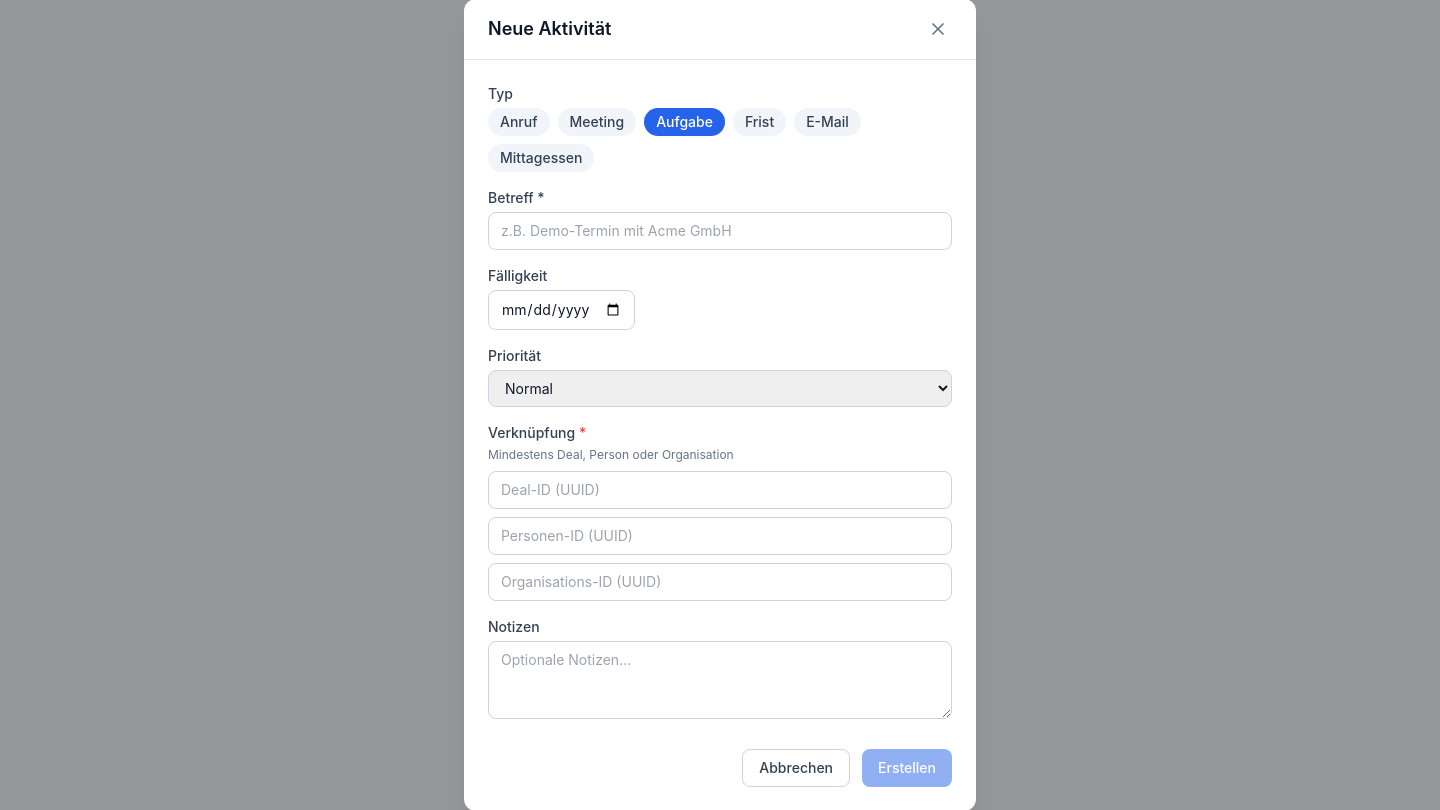
Scenario: CreateActivityModal › shows MEETING time fields (Von/Bis labels)
What coordinates should you click on to do the following:
click the button "Meeting"
I would click on:
 (597, 122)
Its box is x1=558 y1=108 x2=636 y2=136.
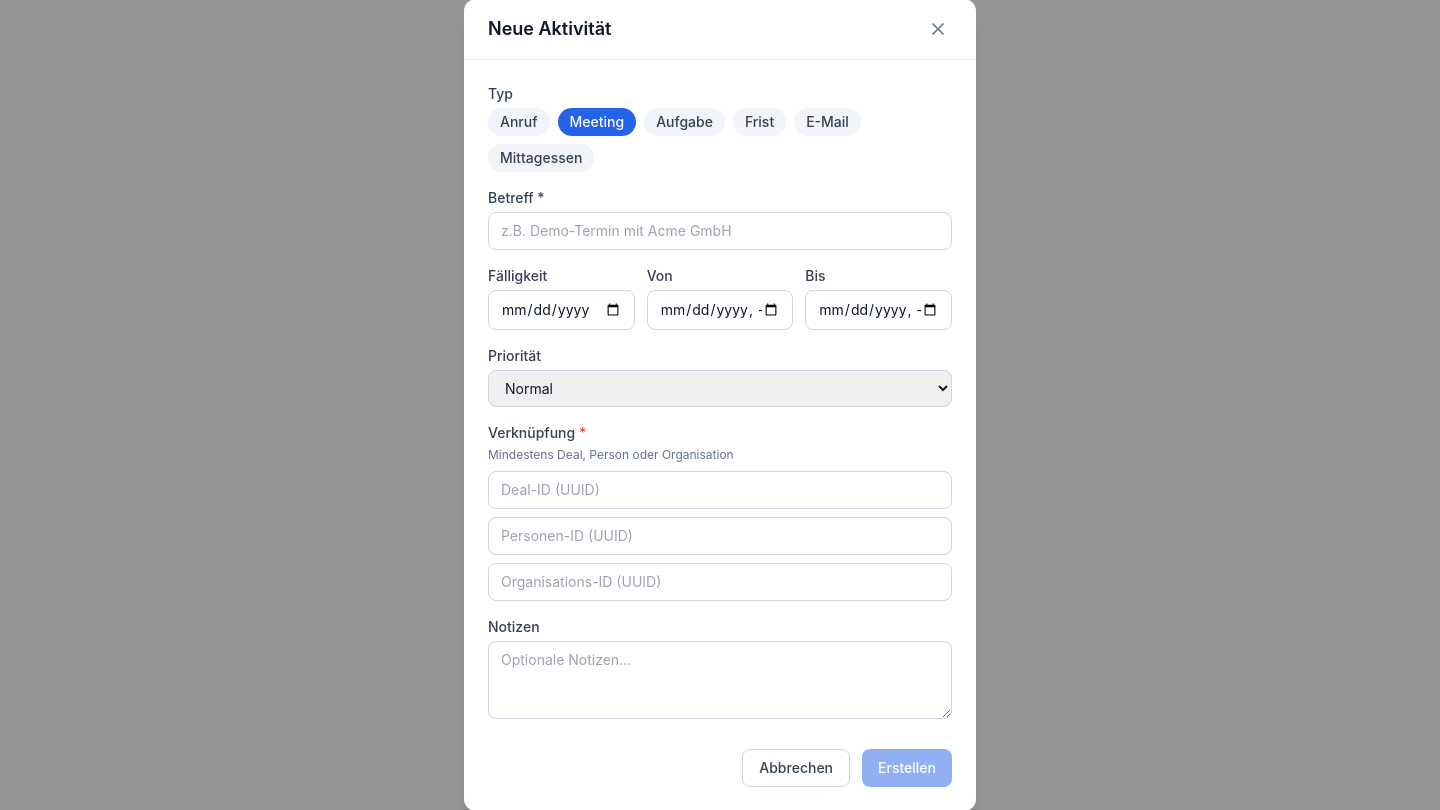
Check: the text "Von" is shown, box x1=647 y1=267 x2=673 y2=284
Check: the text "Bis" is shown, box x1=805 y1=267 x2=826 y2=284
